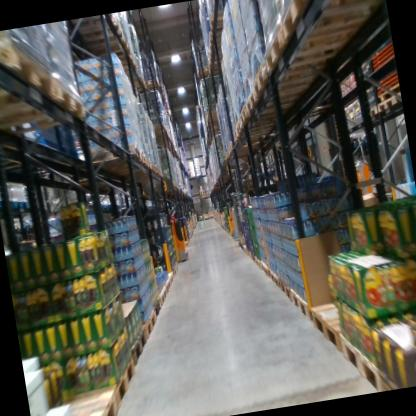pallet: (258, 7, 357, 84), (0, 67, 93, 143), (249, 50, 357, 100), (277, 0, 388, 43), (242, 70, 332, 122), (0, 27, 54, 96), (307, 290, 352, 365), (78, 357, 139, 412), (337, 327, 382, 395), (237, 93, 308, 133), (231, 114, 299, 147), (234, 104, 306, 135), (67, 11, 127, 47), (81, 139, 142, 174), (44, 388, 118, 416), (86, 48, 140, 82), (79, 33, 134, 61), (100, 155, 148, 181), (203, 24, 236, 59), (288, 285, 314, 325), (123, 326, 149, 366), (226, 136, 272, 157), (134, 308, 159, 342), (205, 5, 228, 36), (204, 58, 235, 77), (374, 93, 397, 116), (7, 195, 31, 215), (280, 275, 295, 304), (152, 285, 170, 309), (205, 48, 231, 64), (128, 71, 147, 91), (359, 102, 379, 120), (149, 298, 164, 322), (139, 75, 161, 91), (137, 157, 152, 174), (270, 268, 282, 289), (192, 65, 210, 79), (159, 278, 172, 295), (261, 259, 271, 279), (167, 267, 178, 285), (254, 253, 264, 271), (163, 271, 174, 284), (172, 261, 180, 274), (242, 243, 248, 257), (251, 250, 255, 265), (247, 246, 252, 258)
pallet_truck: (340, 130, 376, 199), (158, 199, 192, 269), (221, 189, 245, 240)
